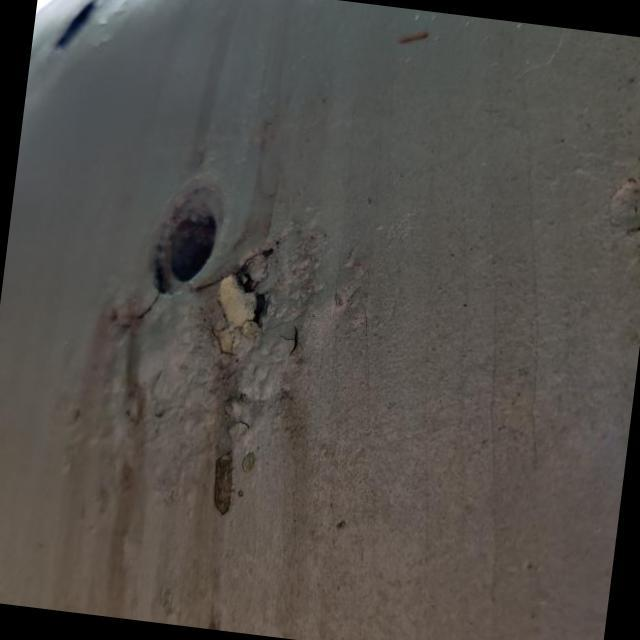Rupture: (194, 237, 295, 356)
